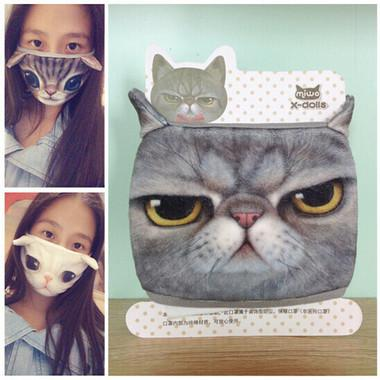OK: (19, 213, 102, 296), (18, 27, 98, 107)
